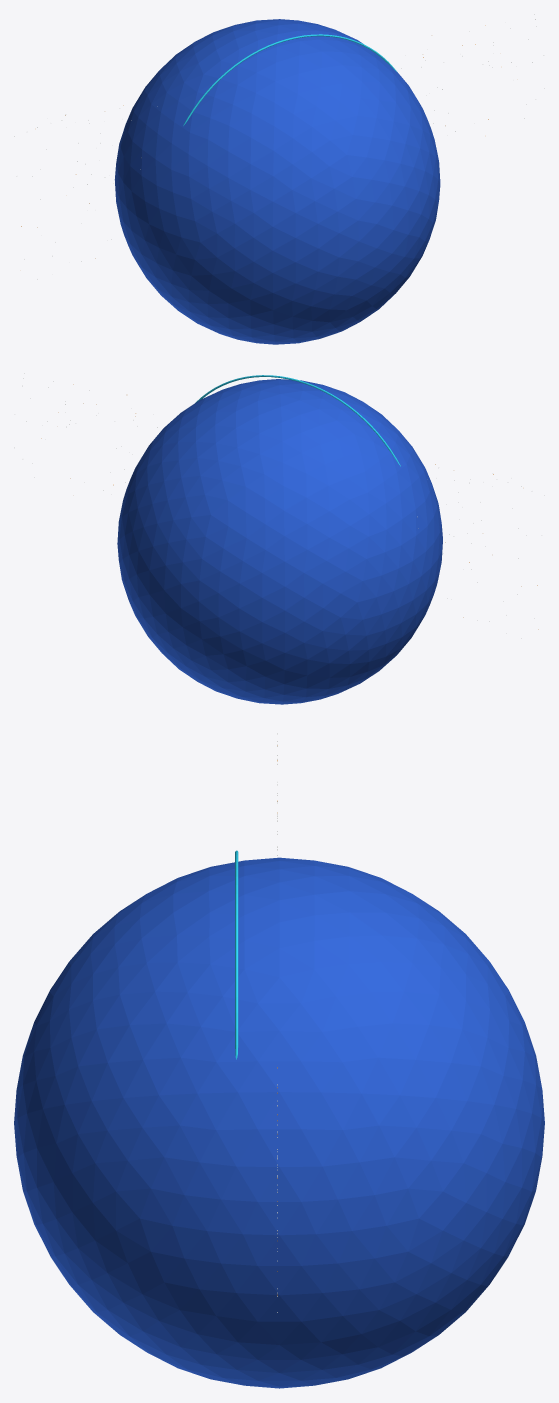
The model's file is 01_L86_PanoramicEarthMaintenanceViewport.fbx.
The picture shows the model from 3 angles, top to bottom: view 1: azimuth 30°, elevation 25°; view 2: azimuth 150°, elevation 25°; view 3: azimuth 270°, elevation 25°; orthographic projection. The views are drawn at different scales.
Visible parts, largest first — view 1: L86_PanoramicEarthMaintenanceViewport; view 2: L86_PanoramicEarthMaintenanceViewport; view 3: L86_PanoramicEarthMaintenanceViewport.
Part boxes in pixels (<box>): L86_PanoramicEarthMaintenanceViewport: <box>14,14,544,344</box>; L86_PanoramicEarthMaintenanceViewport: <box>14,373,544,704</box>; L86_PanoramicEarthMaintenanceViewport: <box>14,733,544,1388</box>.
Size of the model in its own units: 2803 by 1519 by 1490.
